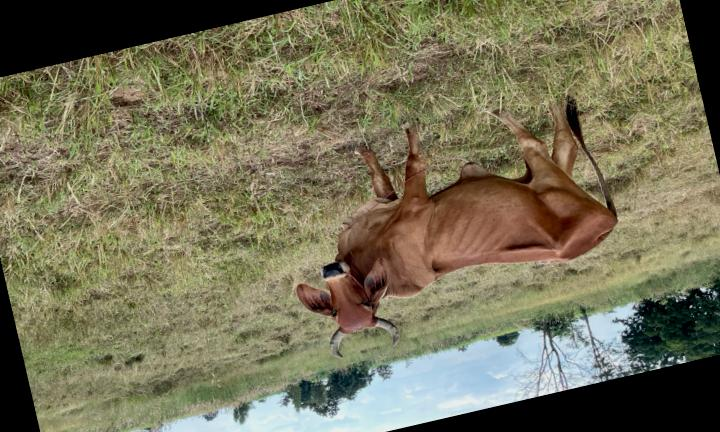Brahman: (297, 99, 618, 358)
